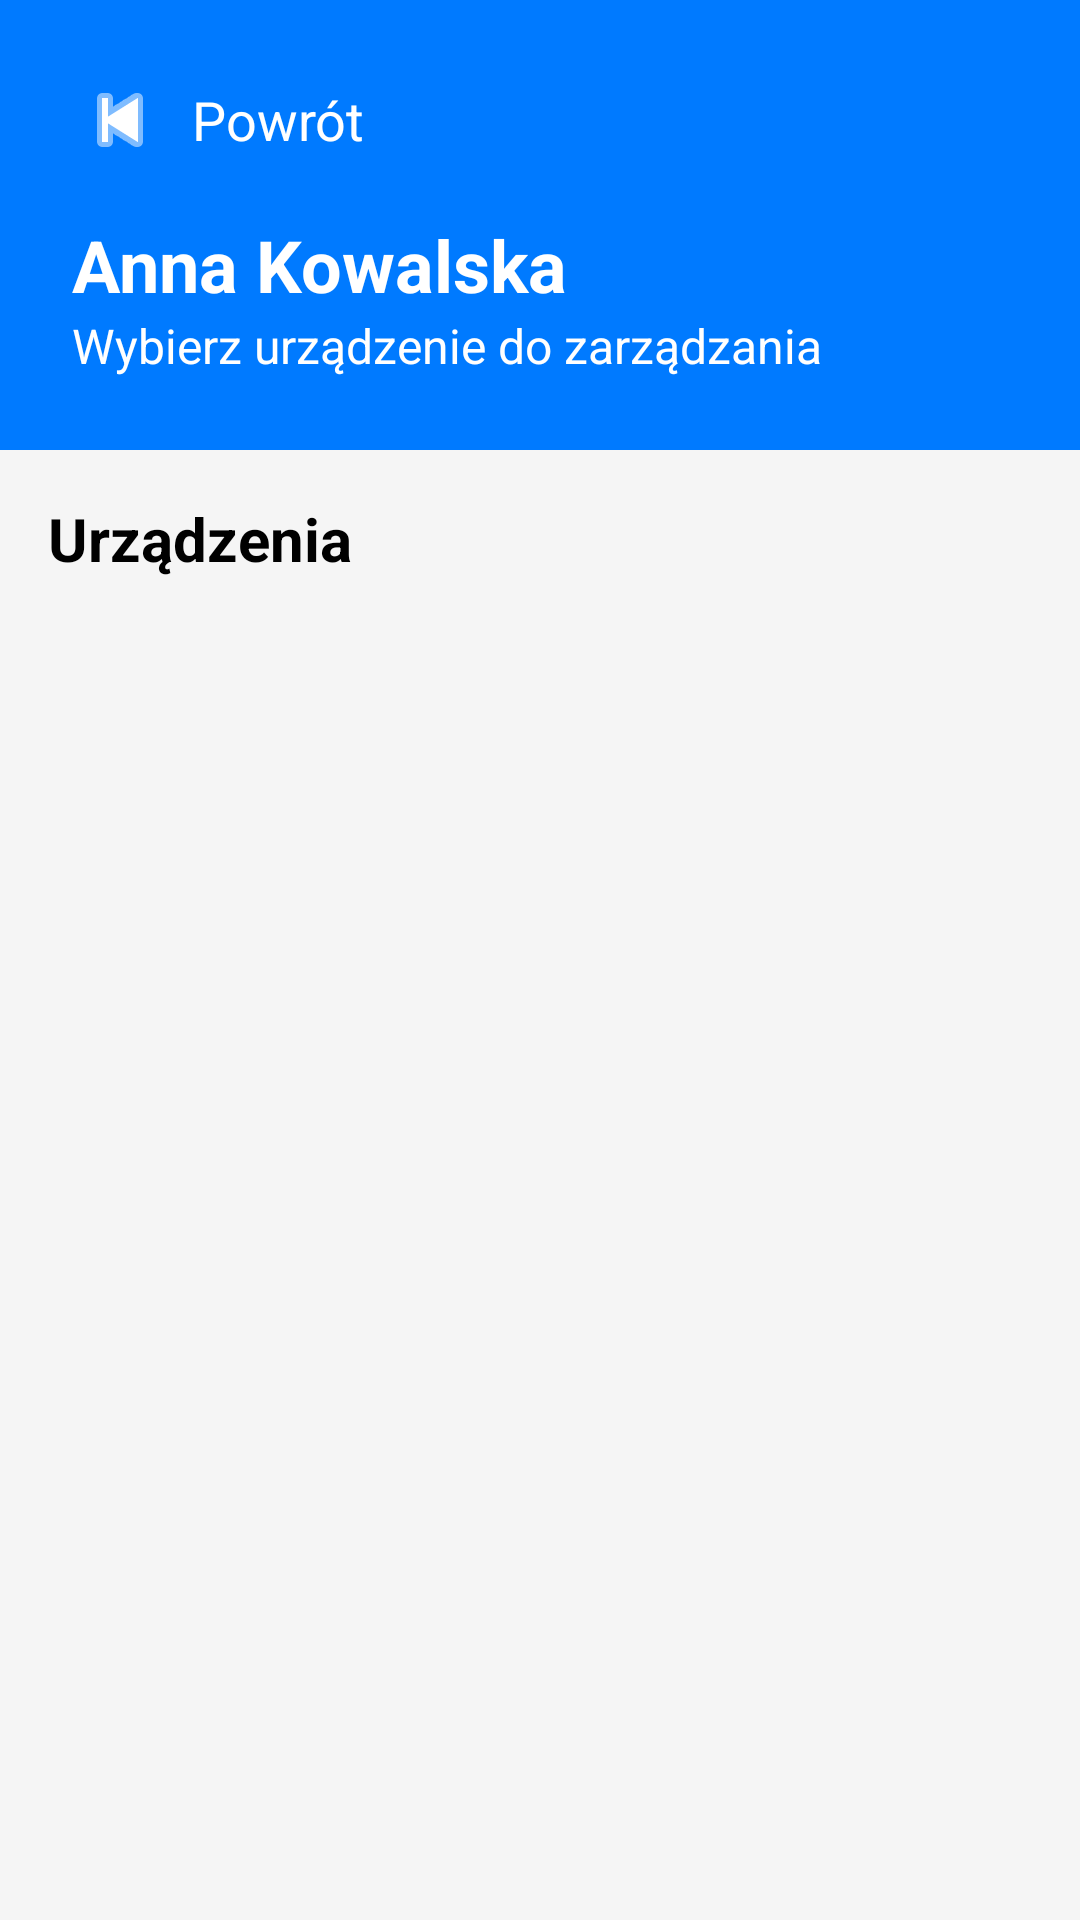

Icon bounding boxes for this 1080*1920 phone screenshot, format (x1, y1, x2, y2):
previous: (97, 93, 143, 147)
